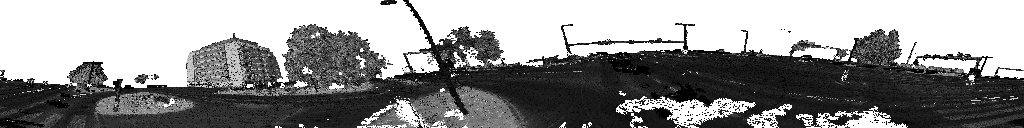gantry_sign_pole: (912, 54, 992, 81), (438, 45, 492, 69), (790, 44, 840, 60), (570, 38, 685, 44), (995, 67, 1023, 74)
light_pole: (403, 0, 467, 115), (841, 39, 858, 83), (676, 24, 694, 56), (82, 62, 102, 84), (247, 51, 257, 93), (560, 24, 572, 55), (906, 44, 916, 65), (741, 31, 747, 56)
traffic_pole: (445, 59, 458, 84), (113, 80, 122, 113)
